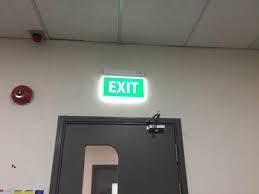exit: (56, 122, 183, 193)
lit_exit_sign: (103, 76, 145, 98)
